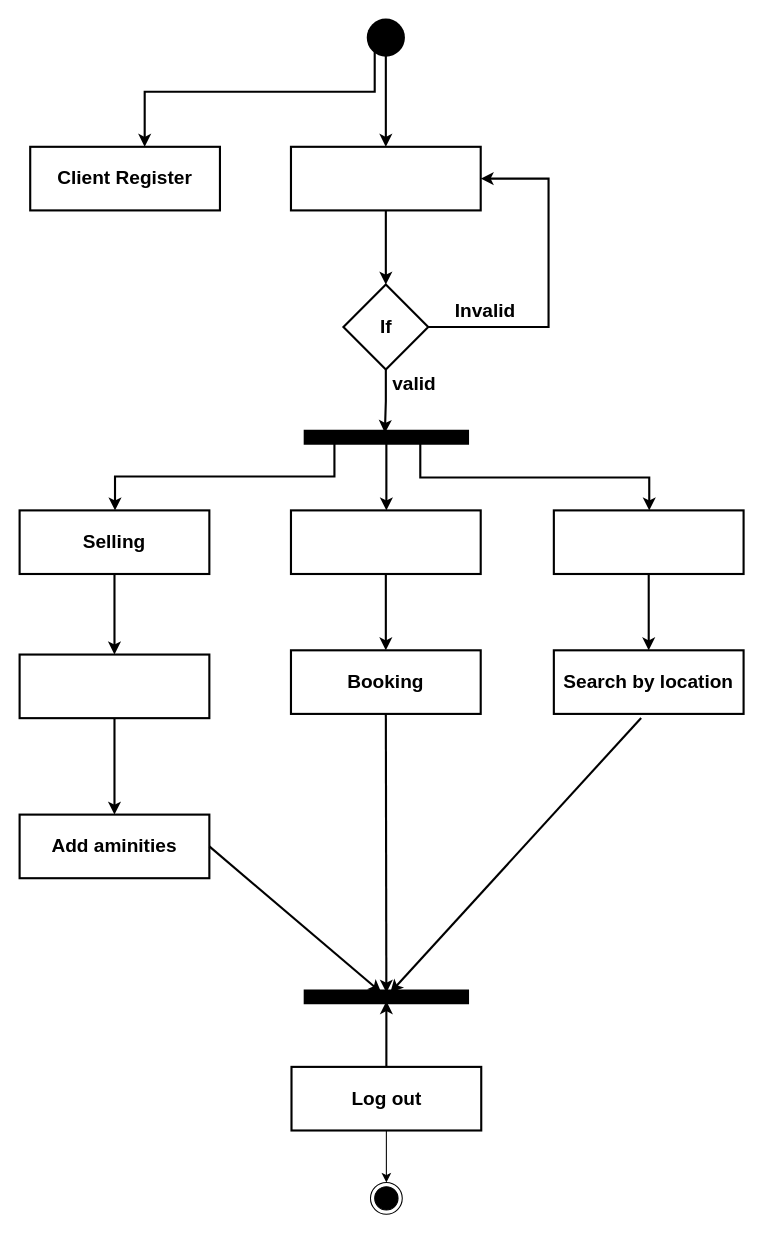
Image size: 762x1233. Some labels were removed from this diagram. The centre of each missing label's shape, as x and y in pixels:
"Add Asset detail" goes at point 114,686.
"Buying" goes at point 385,542.
"Client login" goes at point 385,178.
"Search" goes at point 648,542.
